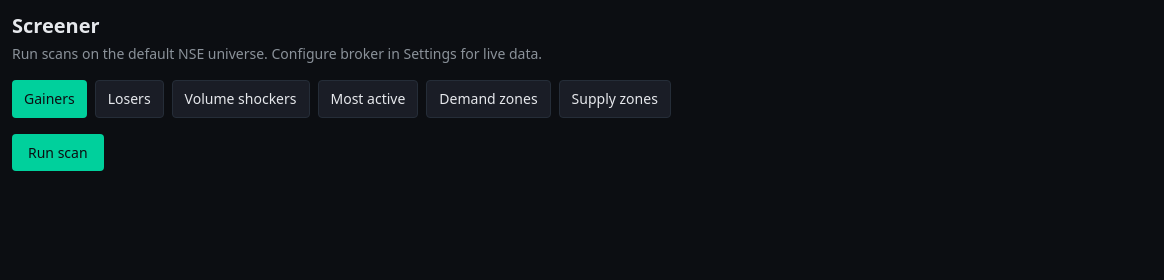
Test: Screener › shows table when scan succeeds
The width and height of the screenshot is (1164, 280).
Click the button "Run scan".
click(58, 152)  # box top-left (12, 134), bottom-right (104, 171)
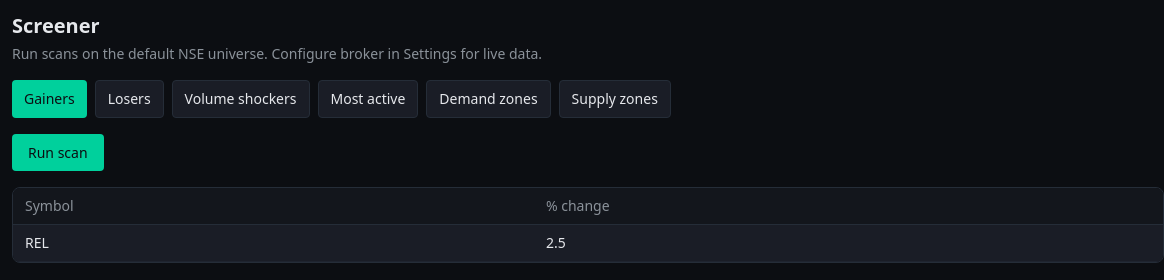
Expected: the text "REL" is shown, top-left (13, 224), bottom-right (534, 262)
